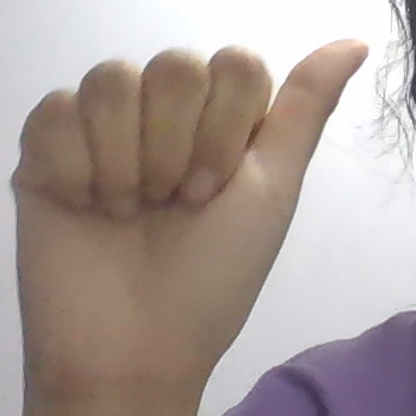A: (12, 41, 367, 395)
